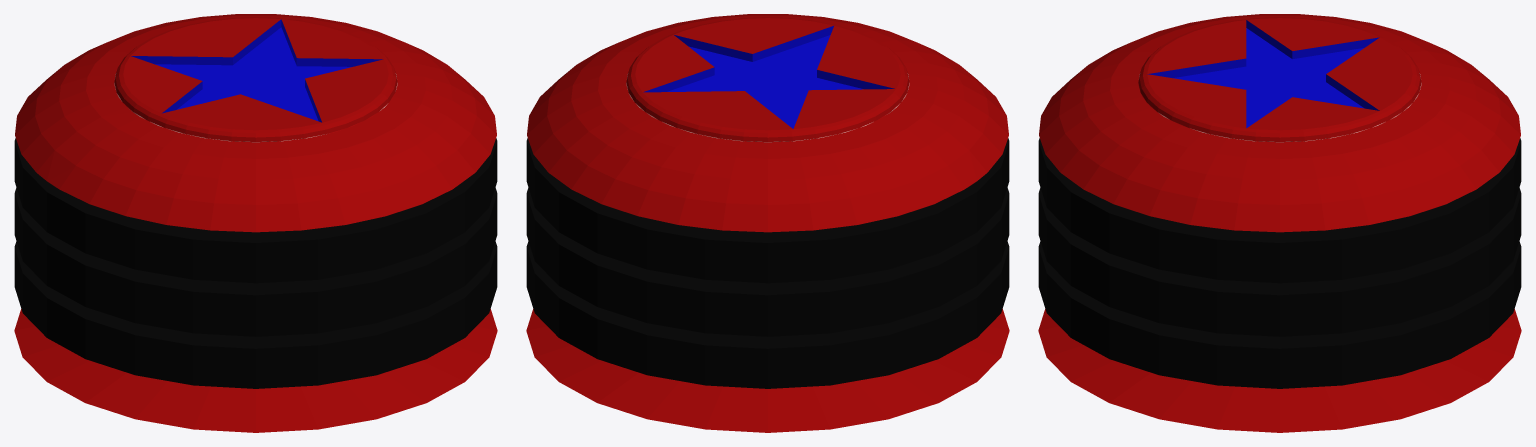
The model's file is bumper.fbx.
3 views of the same model, side by side, from view 1: azimuth 30°, elevation 25°; view 2: azimuth 150°, elevation 25°; view 3: azimuth 270°, elevation 25° (orthographic).
Visible parts, largest first — view 1: Bumper; view 2: Bumper; view 3: Bumper.
Boxes of the visible parts, x1=… form: Bumper: x1=14, y1=14, x2=497, y2=432; Bumper: x1=526, y1=14, x2=1009, y2=432; Bumper: x1=1038, y1=14, x2=1521, y2=432.
Size of the model in its own units: 215 by 130 by 215.
